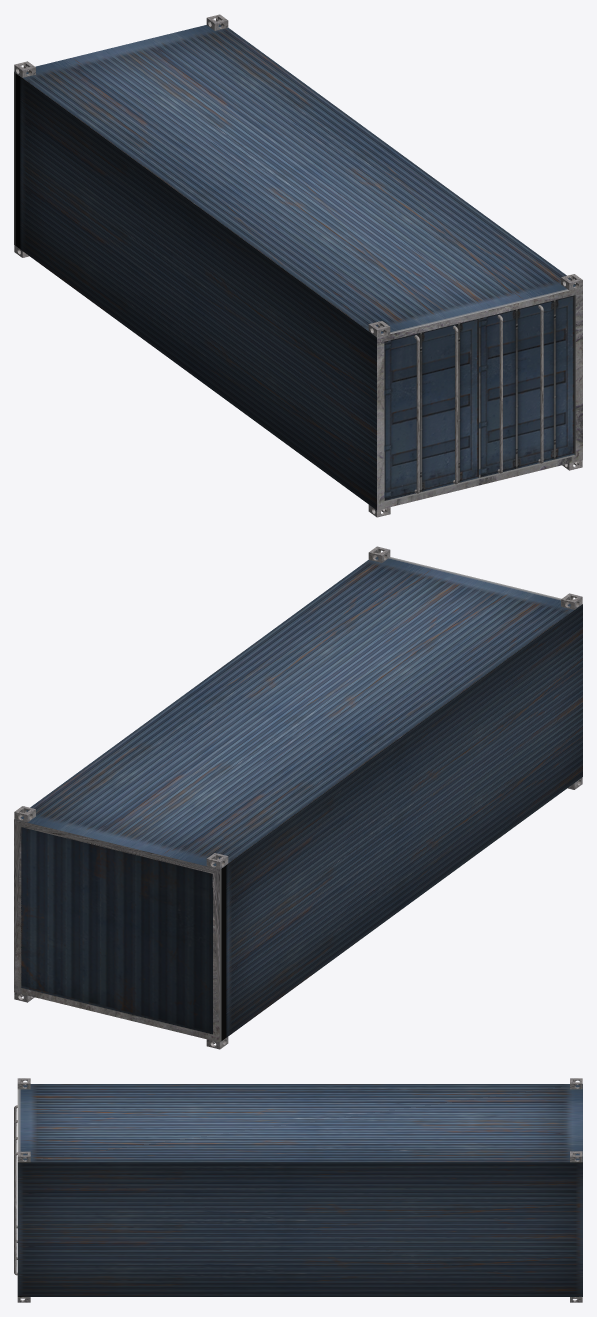
Rendered from Container.dae.
3 renders of one model, top to bottom at view 1: azimuth 30°, elevation 25°; view 2: azimuth 150°, elevation 25°; view 3: azimuth 270°, elevation 25°, orthographic. The views are drawn at different scales.
Parts seen in each view (by area): view 1: Warehouse_pCube32, Warehouse_Right_Door, Warehouse_pPlane1; view 2: Warehouse_pCube32; view 3: Warehouse_pCube32, Warehouse_pCylinder1_ncl1_3.
Part boxes in pixels (x1,y1,x2,y2): Warehouse_pCube32: (14,25,582,510); Warehouse_Right_Door: (479,295,574,477); Warehouse_pPlane1: (384,318,478,500); Warehouse_pCube32: (14,557,582,1042); Warehouse_pCube32: (17,1084,582,1296); Warehouse_pCylinder1_ncl1_3: (14,1158,16,1270).
Size of the model in its own units: 11.17 by 9.71 by 34.3.
